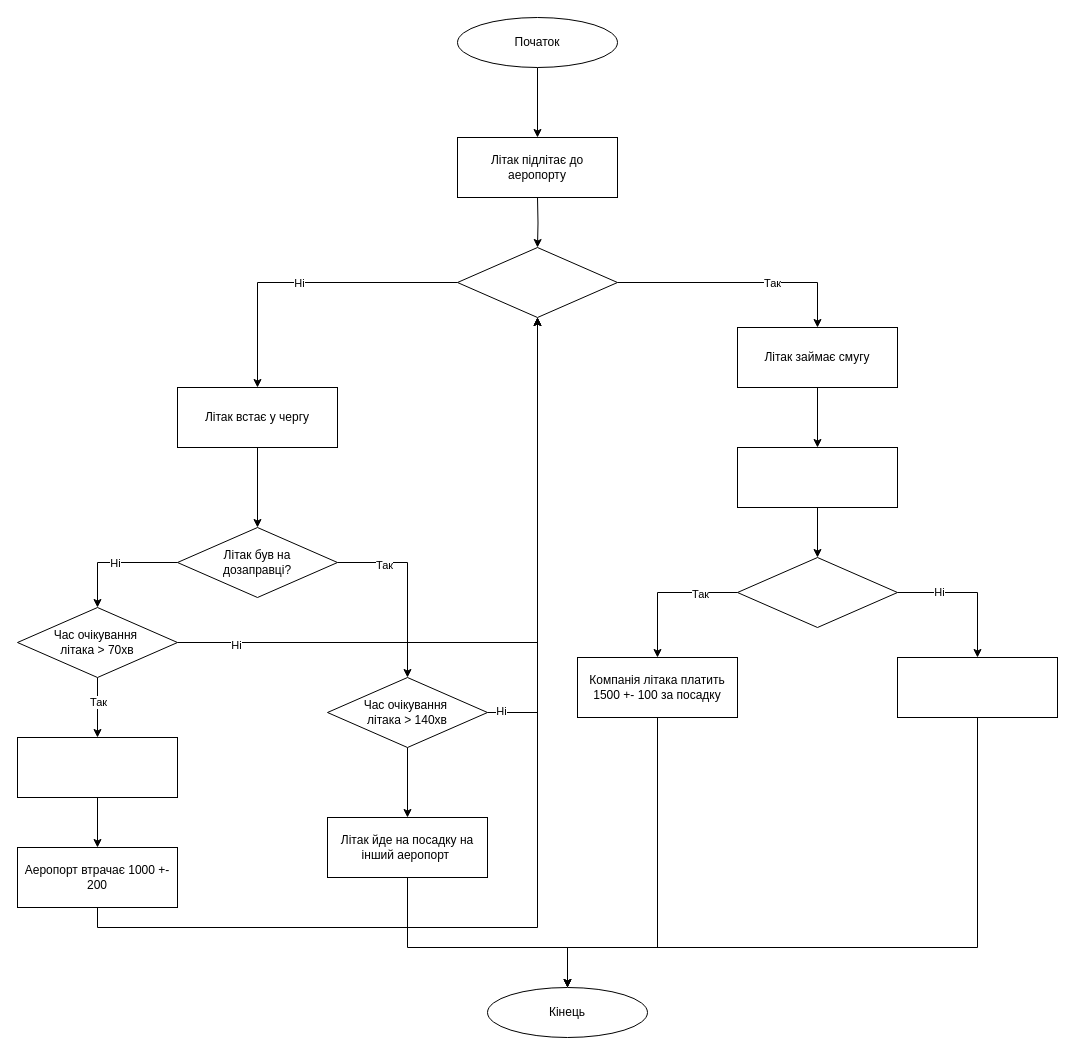
This 1075x1055 diagram has some shape labels left out. Each missing label, with the centre of its shape:
"Компанія літака платить 2000 за посадку" belongs at (977,687).
"Літак йде на дозаправку" belongs at (97,767).
"Літак обслуговується на посадковій смузі" belongs at (817,477).
"Літак очікував у черзі?" belongs at (817,592).
"Є вільні смуги?" belongs at (537,282).
